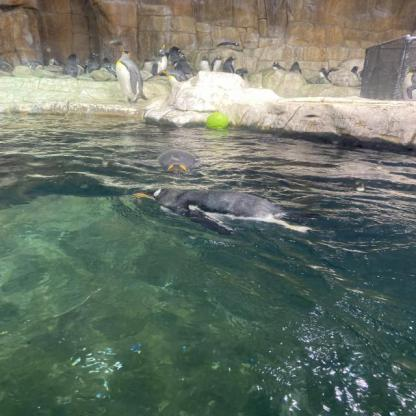penguin: (132, 186, 320, 236), (116, 50, 148, 103), (157, 148, 196, 177), (155, 69, 189, 88), (402, 66, 416, 102), (173, 53, 194, 77), (65, 53, 85, 78), (152, 43, 166, 74), (167, 46, 181, 66), (210, 54, 226, 71), (85, 53, 99, 72), (198, 54, 212, 72), (23, 60, 44, 71), (225, 56, 238, 73), (289, 61, 303, 75), (0, 56, 12, 72), (318, 67, 330, 83), (270, 61, 284, 74), (235, 67, 249, 80), (215, 41, 241, 47), (351, 65, 361, 77), (48, 57, 61, 66)
